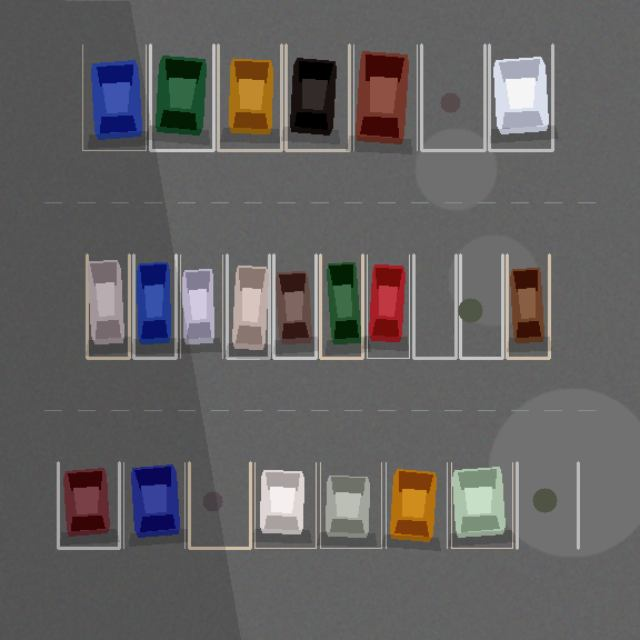space-empty: (421, 44, 484, 150), (189, 462, 250, 548), (517, 462, 578, 548), (413, 254, 456, 358), (460, 254, 502, 358)
space-occupied: (82, 44, 146, 150), (353, 44, 417, 150), (150, 44, 213, 150), (218, 44, 281, 150), (286, 44, 349, 150), (489, 44, 552, 150), (254, 462, 316, 548), (58, 462, 119, 548), (123, 462, 184, 548), (320, 462, 381, 548), (386, 462, 447, 548), (451, 462, 512, 548), (133, 254, 176, 358), (273, 254, 316, 358), (87, 254, 129, 358), (180, 254, 222, 358), (227, 254, 269, 358), (320, 254, 362, 358), (367, 254, 409, 358), (507, 254, 549, 358)
